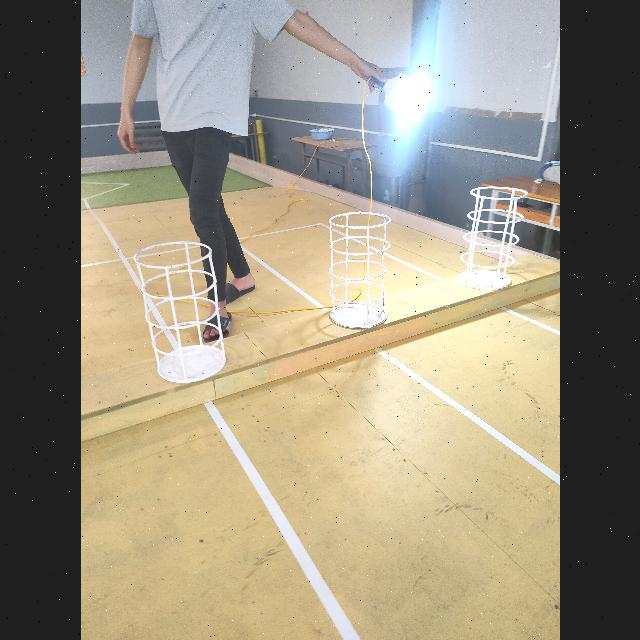S: (131, 238, 227, 385), (456, 185, 530, 291), (328, 210, 391, 330)
